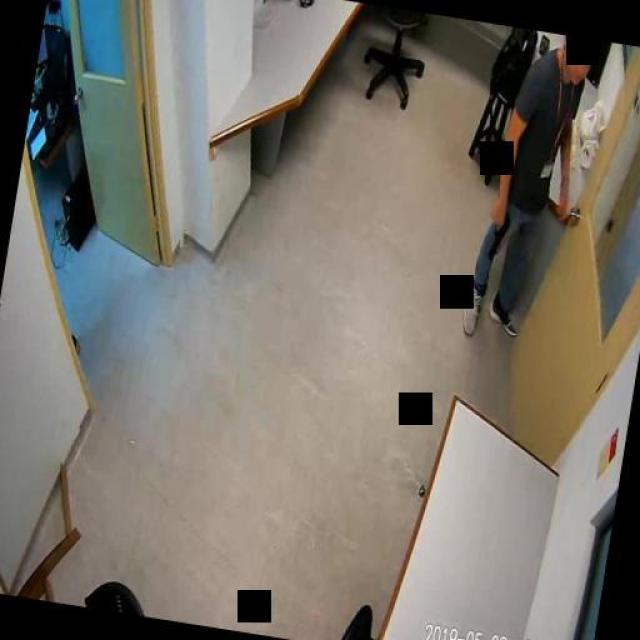gun: (482, 202, 512, 260)
